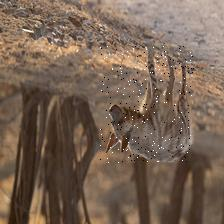hyena: (99, 46, 194, 163)
